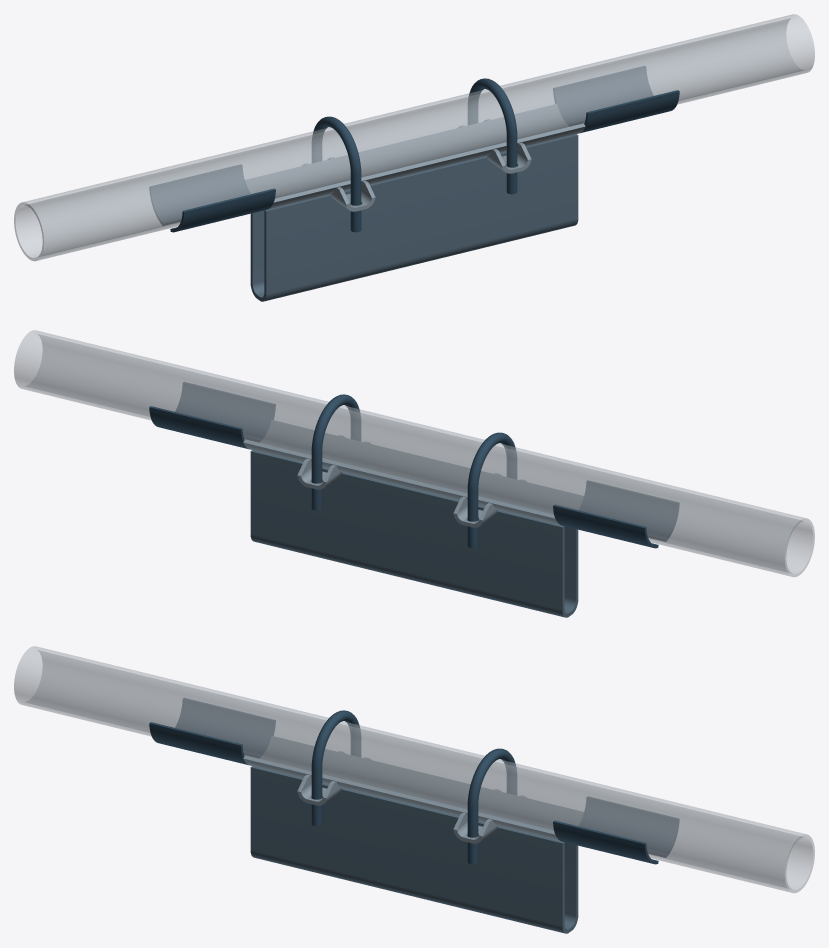
Rendered from TS-670.00.00-opora-dn57-H100.glb.
3 renders of one model, top to bottom at view 1: azimuth 30°, elevation 25°; view 2: azimuth 150°, elevation 25°; view 3: azimuth 330°, elevation 25°, orthographic.
Visible parts, largest first — view 1: truba, skoba_1, podushka_0, upor_-1_1, upor_1_1, upor_-1_-1, upor_1_-1, homut_1, homut_-1, ushko_5, ushko_7; view 2: truba, skoba_1, podushka_0, upor_-1_-1, upor_1_-1, upor_-1_1, upor_1_1, homut_1, homut_-1, ushko_4, ushko_6; view 3: truba, skoba_1, podushka_0, upor_1_1, upor_-1_1, upor_1_-1, upor_-1_-1, homut_-1, homut_1, ushko_7, ushko_5.
Part boxes in pixels (x1,y1,x2,y2): truba: (14,14,814,261); skoba_1: (250,134,578,301); podushka_0: (245,104,585,209); upor_-1_1: (149,164,249,225); upor_1_1: (553,66,653,125); upor_-1_-1: (170,188,275,232); upor_1_-1: (580,90,679,133); homut_1: (468,78,517,194); homut_-1: (312,116,361,232); ushko_5: (486,142,531,173); ushko_7: (330,180,375,211); truba: (14,330,814,577); skoba_1: (250,450,578,617); podushka_0: (243,420,583,525); upor_-1_-1: (579,480,679,541); upor_1_-1: (175,382,275,441); upor_-1_1: (553,504,658,548); upor_1_1: (149,406,248,449); homut_1: (311,394,360,510); homut_-1: (467,432,516,548); ushko_4: (297,458,342,489); ushko_6: (453,496,498,527); truba: (14,646,814,893); skoba_1: (250,766,578,933); podushka_0: (243,736,583,841); upor_1_1: (579,796,679,857); upor_-1_1: (175,698,275,757); upor_1_-1: (553,820,658,864); upor_-1_-1: (149,722,248,765); homut_-1: (311,710,360,826); homut_1: (467,748,516,864); ushko_7: (297,774,342,805); ushko_5: (453,812,498,843).
Bounding box in the file's own units: 840 × 168 × 92.19.
